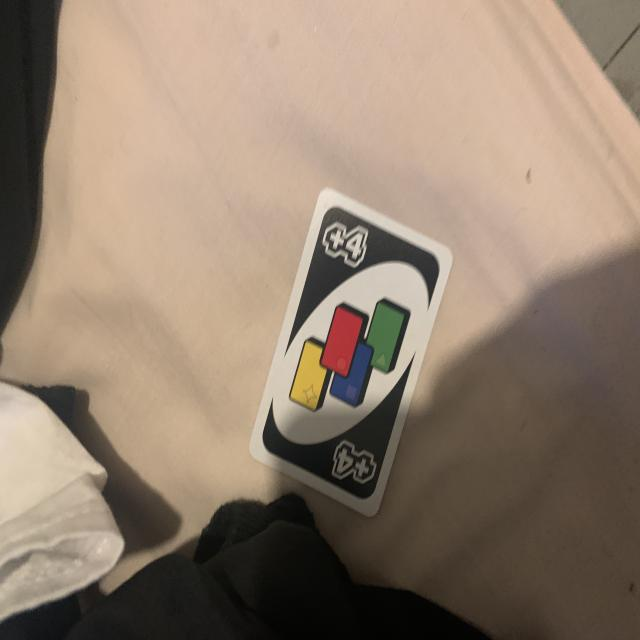lcolor-400: (319, 210, 372, 276)
